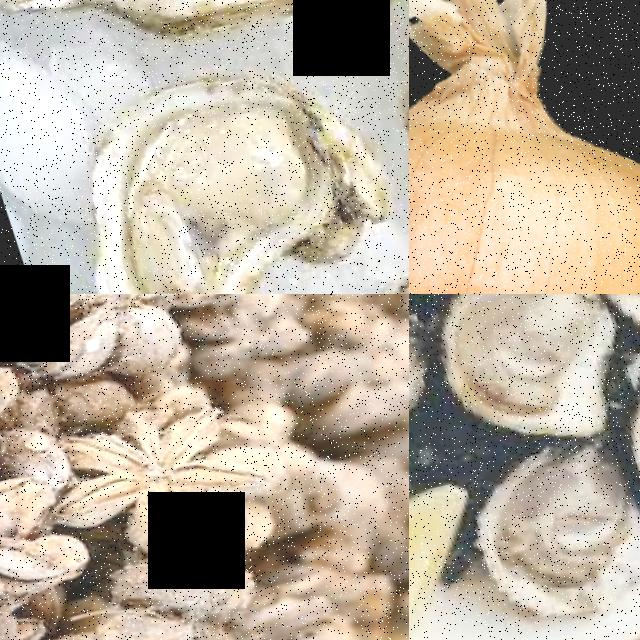lemon: (409, 478, 499, 640)
onion: (409, 0, 640, 294)
oysters: (30, 54, 406, 294), (409, 294, 640, 462), (455, 433, 640, 623), (0, 0, 399, 83), (598, 333, 640, 534)
